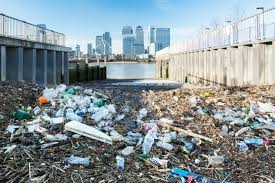plastic: (48, 88, 114, 122), (64, 118, 113, 145), (166, 164, 217, 183), (140, 129, 157, 156), (112, 145, 127, 172), (62, 153, 92, 166), (242, 135, 272, 148), (177, 136, 197, 153)
